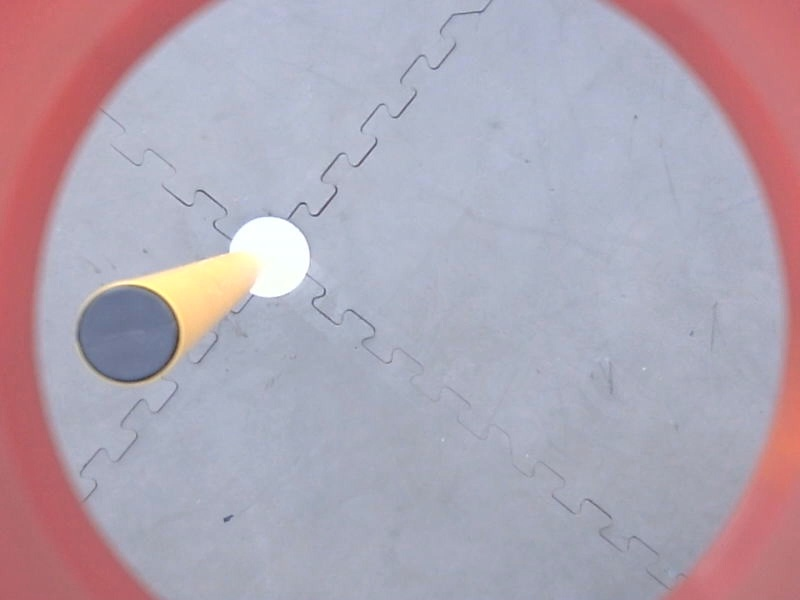tip: (68, 271, 187, 396)
